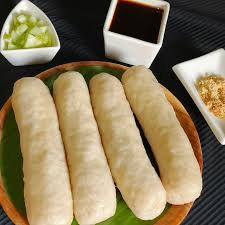Pempek lenjer: (85, 70, 168, 221), (120, 63, 203, 205), (50, 69, 117, 225), (5, 77, 75, 225)
